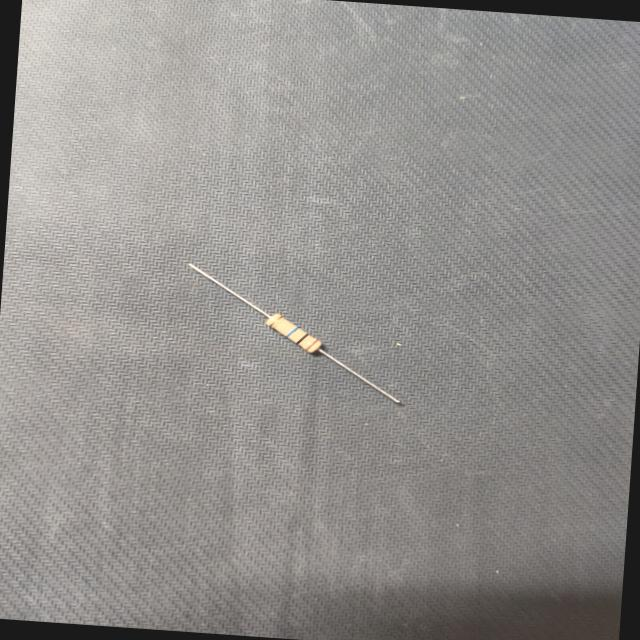resistor: (165, 251, 430, 422)
